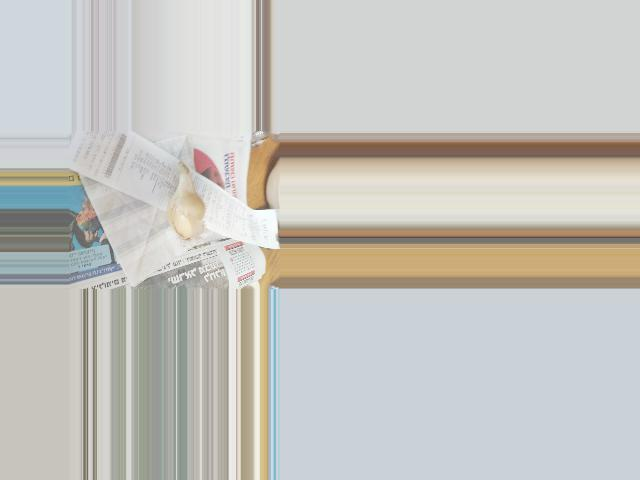onion: (166, 169, 205, 241)
